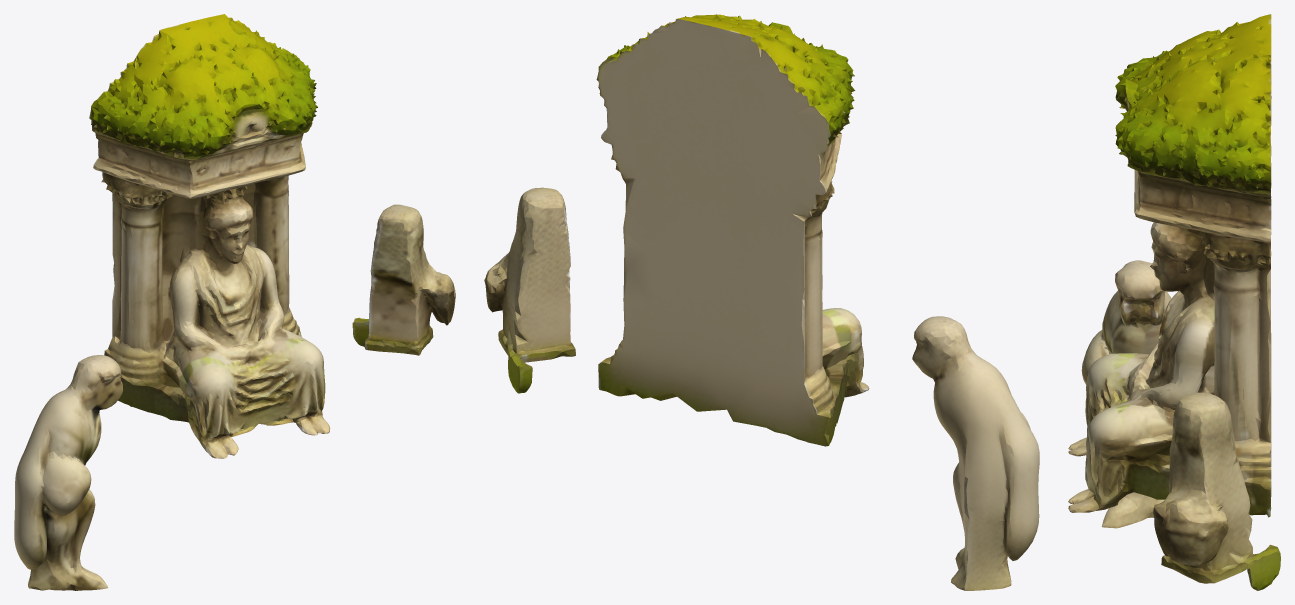
File: temple_debris_fragments.glb
The picture shows the model from 3 angles, left to right: view 1: azimuth 30°, elevation 25°; view 2: azimuth 150°, elevation 25°; view 3: azimuth 270°, elevation 25°; orthographic projection. The views are drawn at different scales.
Parts seen in each view (by area): view 1: temple_debris_fragments; view 2: temple_debris_fragments; view 3: temple_debris_fragments.
Part boxes in pixels (box(x1,y1,x2,y2)): temple_debris_fragments: box(14, 14, 455, 590); temple_debris_fragments: box(484, 14, 1039, 590); temple_debris_fragments: box(1068, 14, 1280, 590).
Bounding box in the file's own units: 1.9 × 1.9 × 0.623.
1 material, 1 textured.
